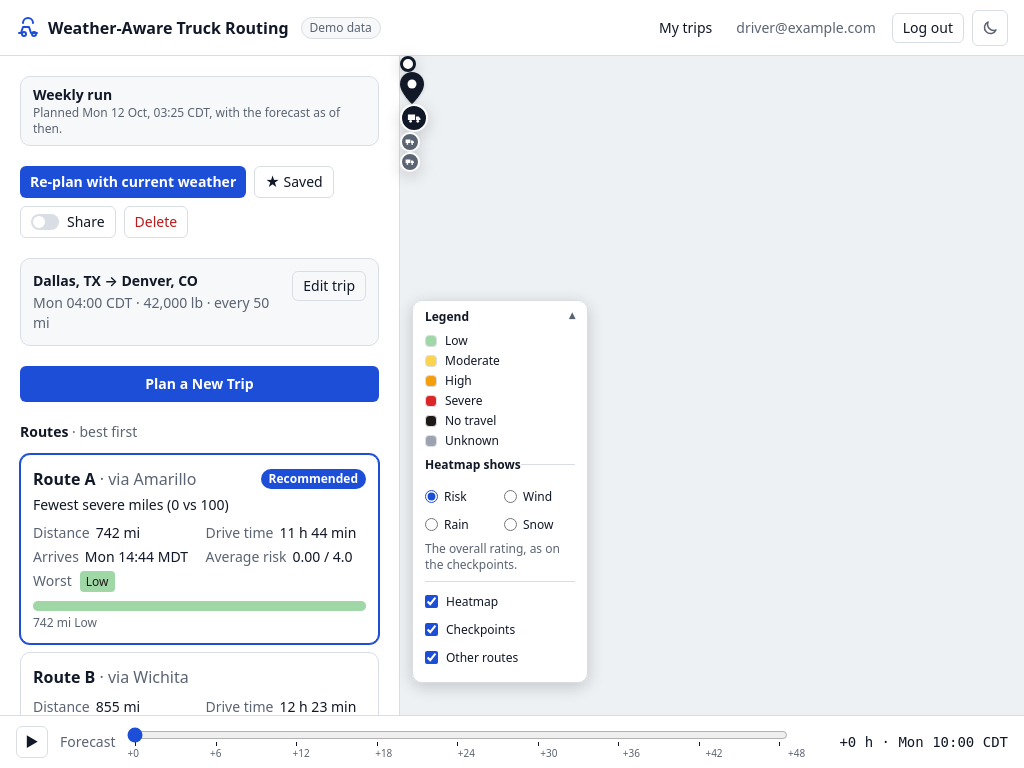
Scenario: trip actions › unsaves with the same button
Click the button "★ Saved" at (294, 182), box left=254, top=166, right=334, bottom=198
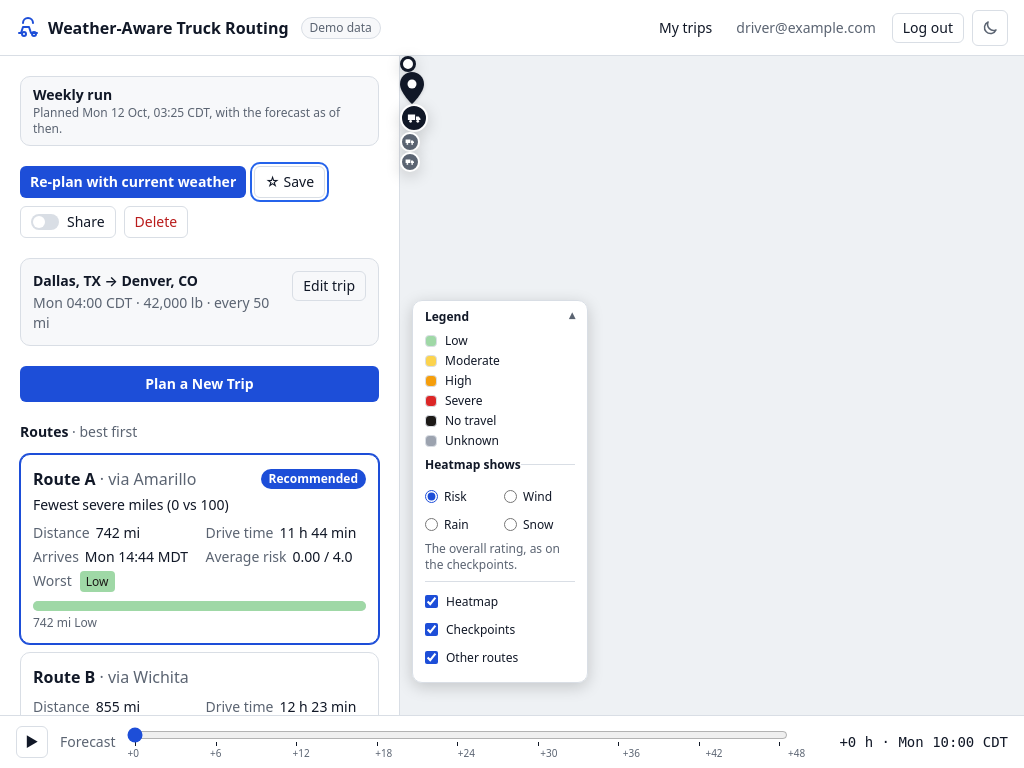
Now the button "☆ Save" is shown, box left=254, top=166, right=325, bottom=198
